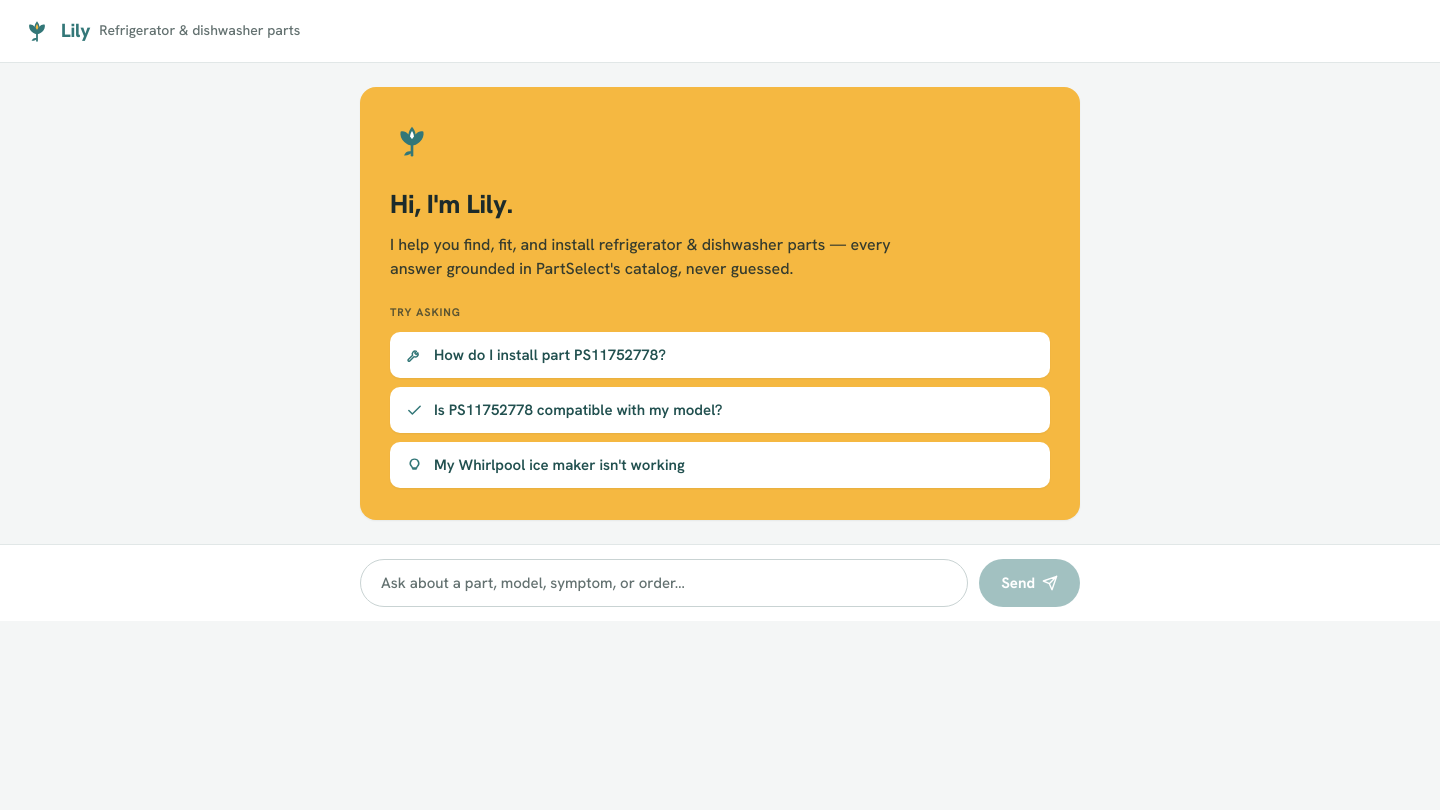
Test: Chat (mocked SSE) › sends a quick-reply label as the next turn
The image size is (1440, 810).
Step 1. Type "Is PS11752778 compatible with my WDT780SAEM1?" into the field named "Message Lily" → coordinates (664, 583), box [360, 559, 968, 607]
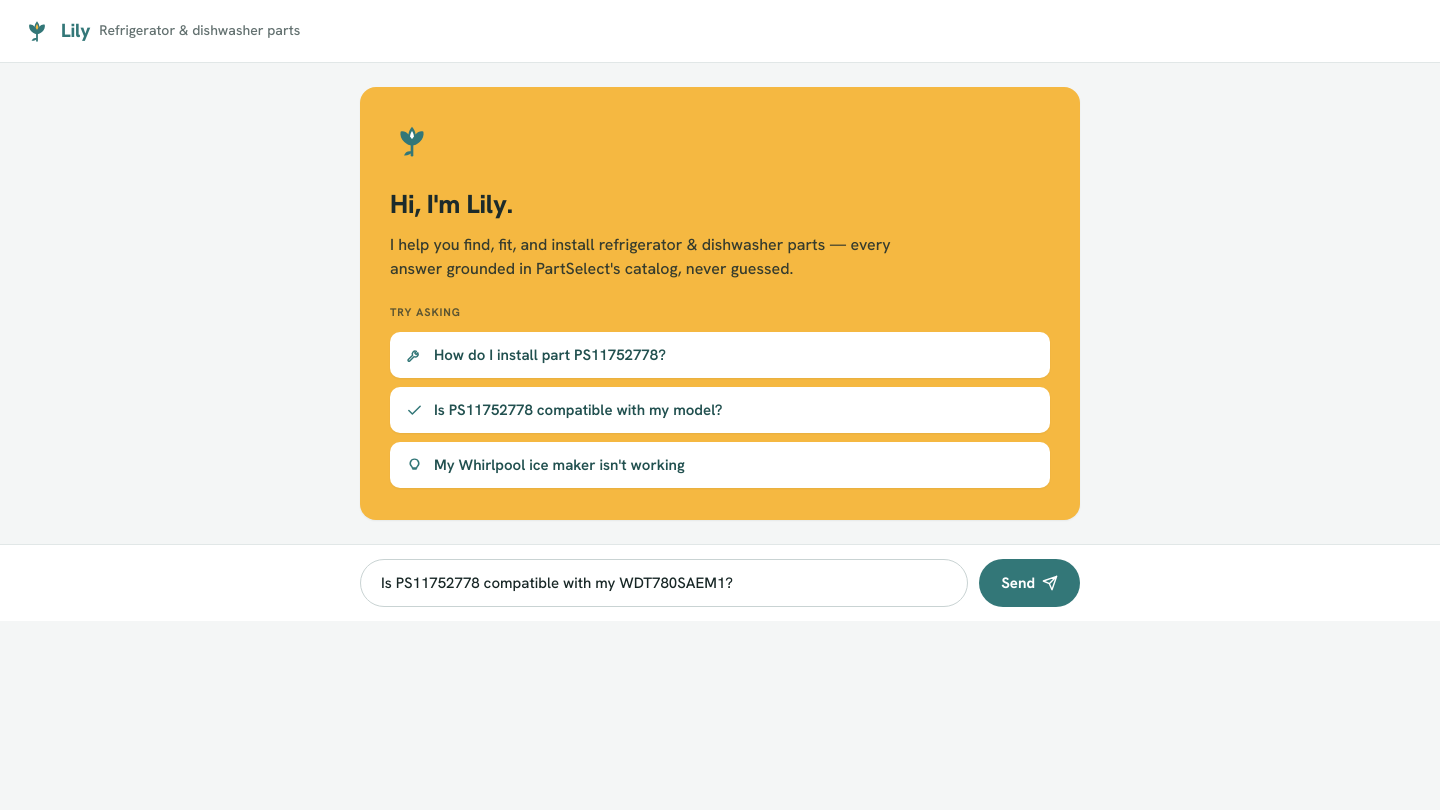
Step 2. Click the button "Send" → coordinates (1030, 583), box [979, 559, 1080, 607]
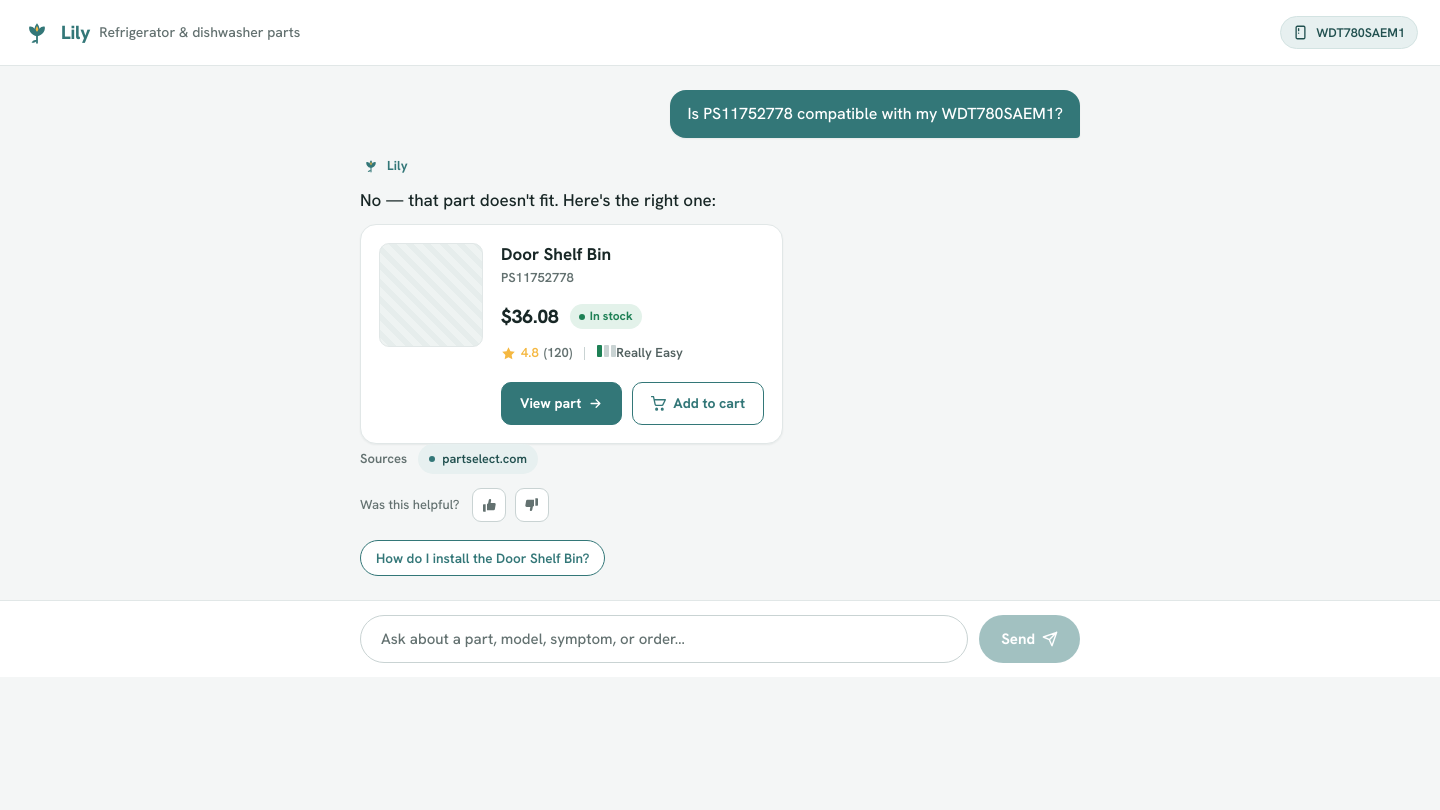
Step 3. Click the button "How do I install the Door Shelf Bin?" → coordinates (483, 558), box [360, 540, 605, 576]
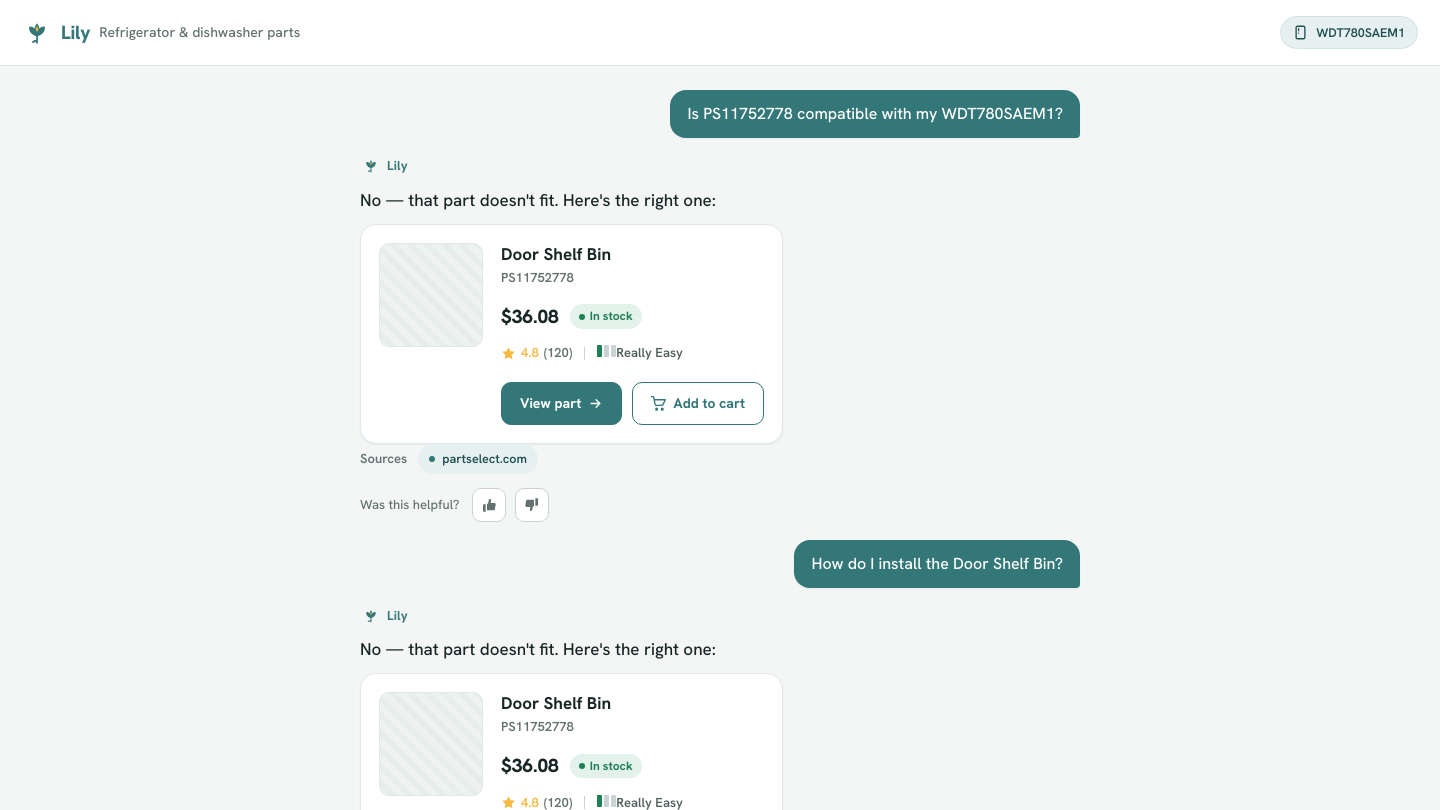
expect the text "How do I install the Door Shelf Bin?" is shown: met, box [794, 540, 1080, 588]
